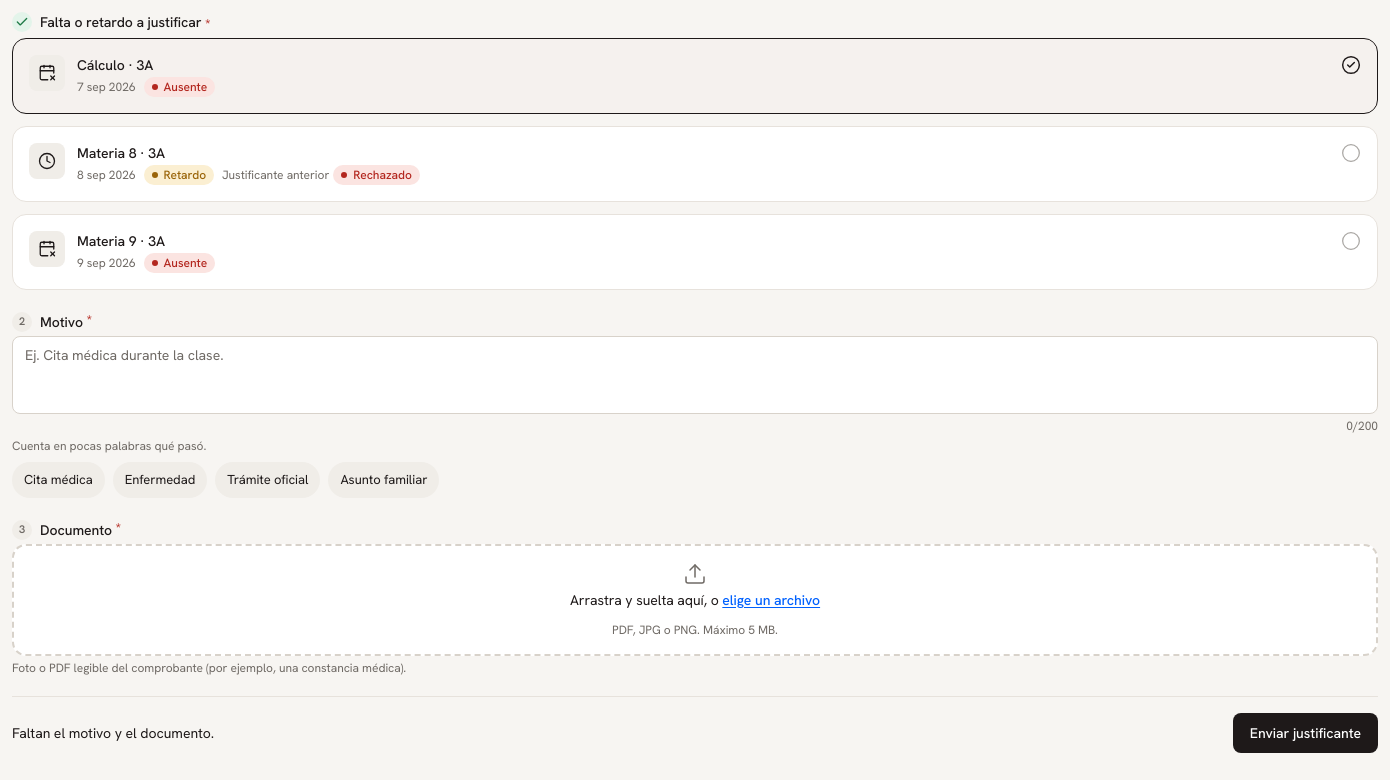
FormularioJustificante › preselecciona la sesión, limita a 200 y muestra contador
Expected: the radio button labelled "Cálculo · 3A 7 sep 2026 Ausente" is checked, [29,55,1361,97]
Step 1. Type "hola" into the text box labelled "2 Motivo *" → (695, 375), box [12,336,1378,414]
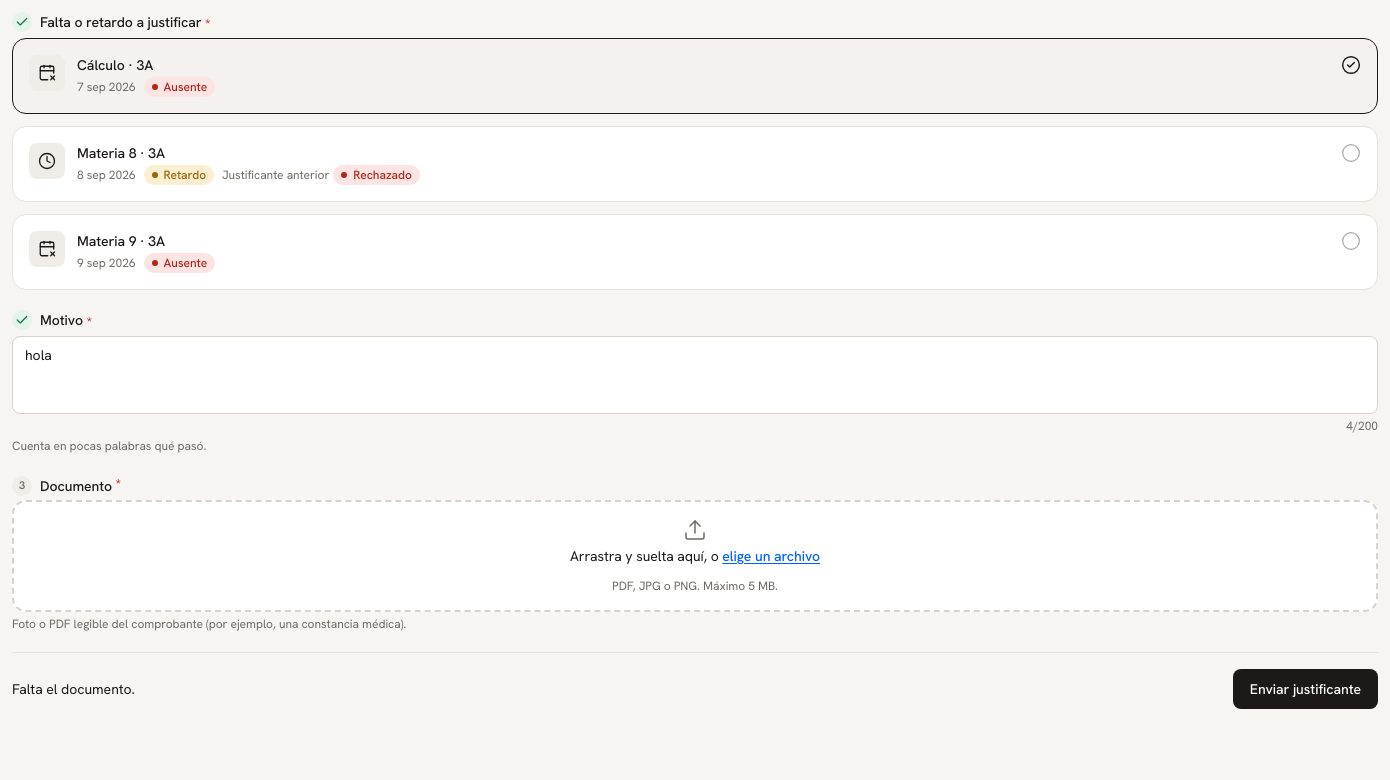
Expected: the text "4/200" is shown, [1346,418,1378,434]
